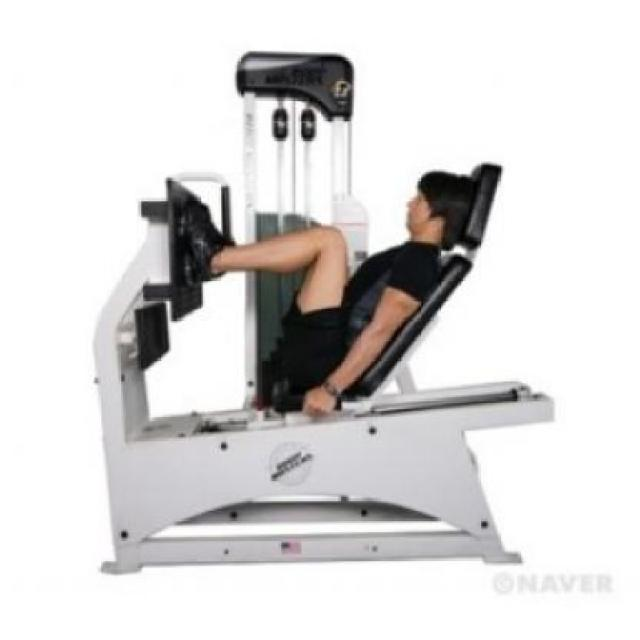leg press: (69, 42, 568, 586)
